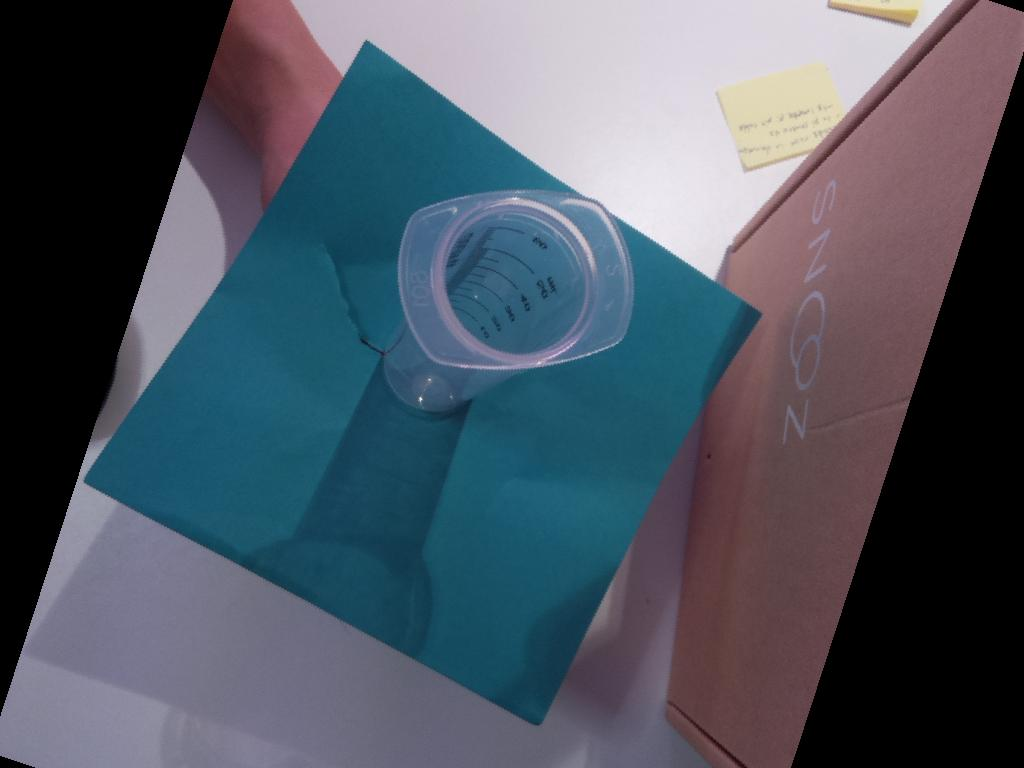clean: (398, 189, 636, 371)
